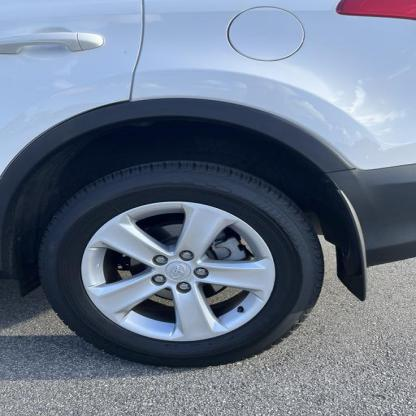Tire: (38, 159, 326, 369)
